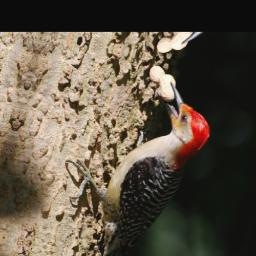Woodpecker: (38, 64, 222, 256)
